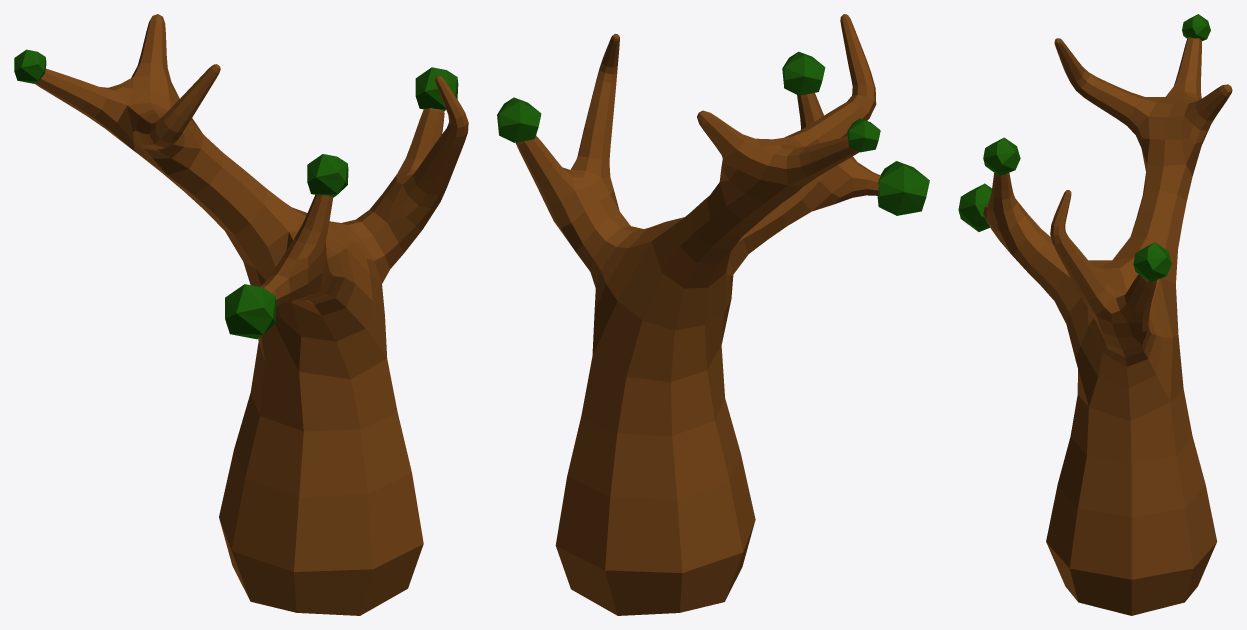
File: Planta02.obj
The picture shows the model from 3 angles, left to right: view 1: azimuth 30°, elevation 25°; view 2: azimuth 150°, elevation 25°; view 3: azimuth 270°, elevation 25°; orthographic projection. The views are drawn at different scales.
Parts seen in each view (by area): view 1: Plane, Icosphere.001, Icosphere.002, Icosphere.003, Icosphere.004; view 2: Plane, Icosphere.001, Icosphere.003, Icosphere.002, Icosphere.004; view 3: Plane, Icosphere.003, Icosphere.001, Icosphere.002, Icosphere.004.
Part boxes in pixels (box(x1,y1,x2,y2)): Plane: box(34, 14, 468, 615); Icosphere.001: box(225, 284, 276, 339); Icosphere.002: box(307, 154, 348, 197); Icosphere.003: box(415, 67, 458, 111); Icosphere.004: box(14, 49, 46, 83); Plane: box(515, 14, 880, 615); Icosphere.001: box(877, 161, 929, 215); Icosphere.003: box(497, 97, 541, 142); Icosphere.002: box(782, 51, 825, 95); Icosphere.004: box(847, 118, 880, 152); Plane: box(983, 37, 1232, 615); Icosphere.003: box(1133, 242, 1171, 282); Icosphere.001: box(958, 183, 991, 231); Icosphere.002: box(983, 137, 1020, 176); Icosphere.004: box(1182, 14, 1210, 40).
Size of the model in its own units: 2.95 by 4.12 by 2.03.
